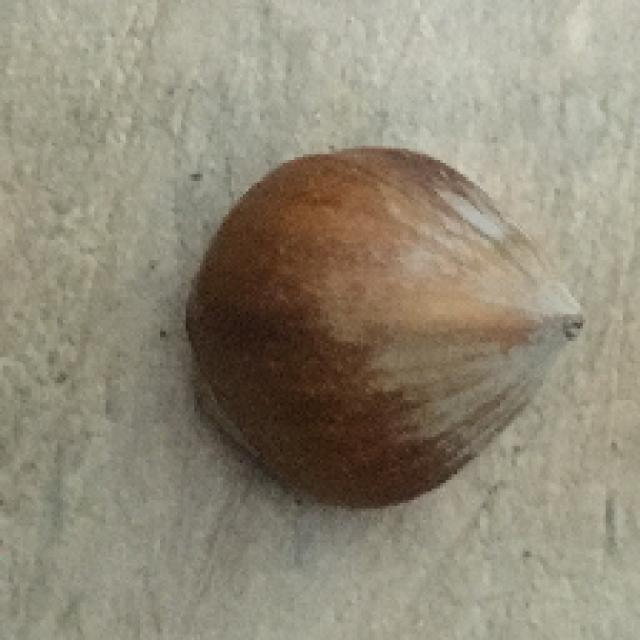qualityHazelnut: (178, 128, 583, 524)
